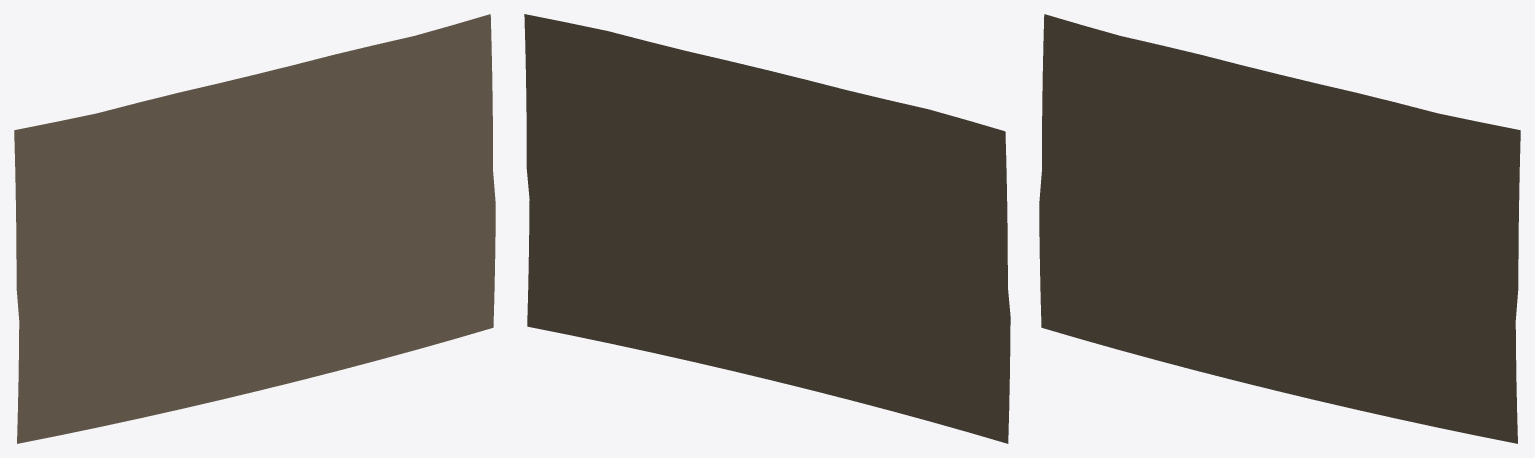
File: stubble.glb
3 views of the same model, side by side, from view 1: azimuth 30°, elevation 25°; view 2: azimuth 150°, elevation 25°; view 3: azimuth 330°, elevation 25° (orthographic).
Visible parts, largest first — view 1: facial-hair_stubble; view 2: facial-hair_stubble; view 3: facial-hair_stubble.
Part boxes in pixels (x1,y1,x2,y2): facial-hair_stubble: [14, 14, 495, 443]; facial-hair_stubble: [524, 14, 1010, 443]; facial-hair_stubble: [1039, 14, 1520, 443].
Bounding box in the file's own units: 0.4 × 0.25 × 0.0157.
